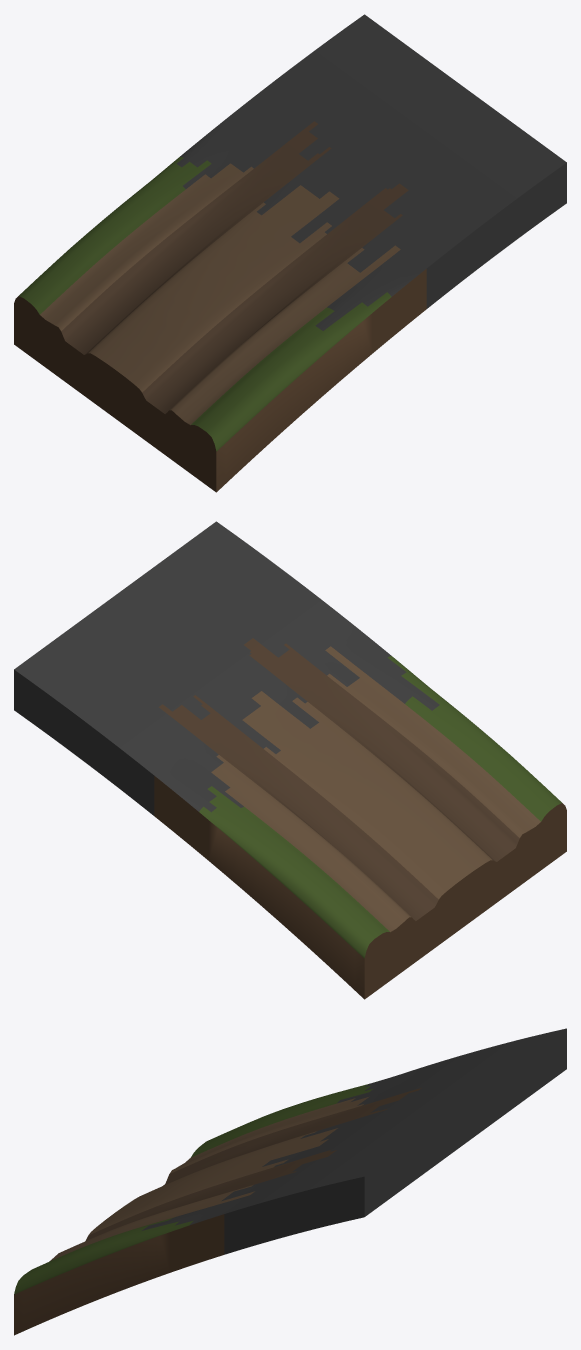
3 renders of one model, top to bottom at view 1: azimuth 30°, elevation 25°; view 2: azimuth 150°, elevation 25°; view 3: azimuth 330°, elevation 25°, orthographic.
Parts seen in each view (by area): view 1: e23t; view 2: e23t; view 3: e23t.
Boxes of the visible parts, x1,y1,x2,y2 form: e23t: (14, 14, 566, 492); e23t: (14, 521, 566, 999); e23t: (14, 1028, 566, 1335).
Bounding box in the file's own units: 9 × 6 × 9.
